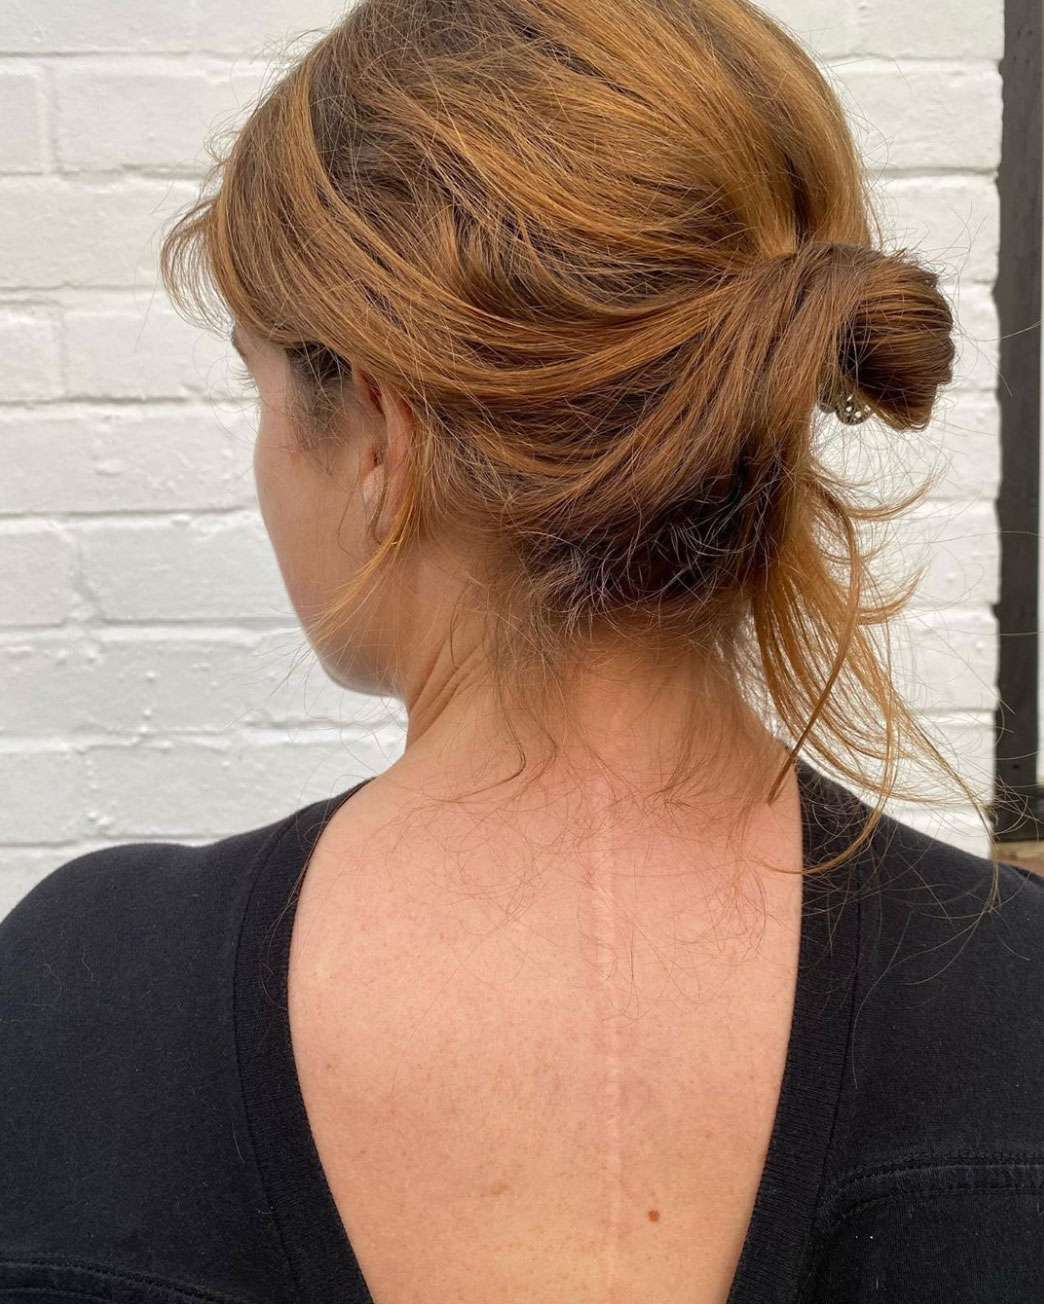scar: (558, 681, 645, 1300)
